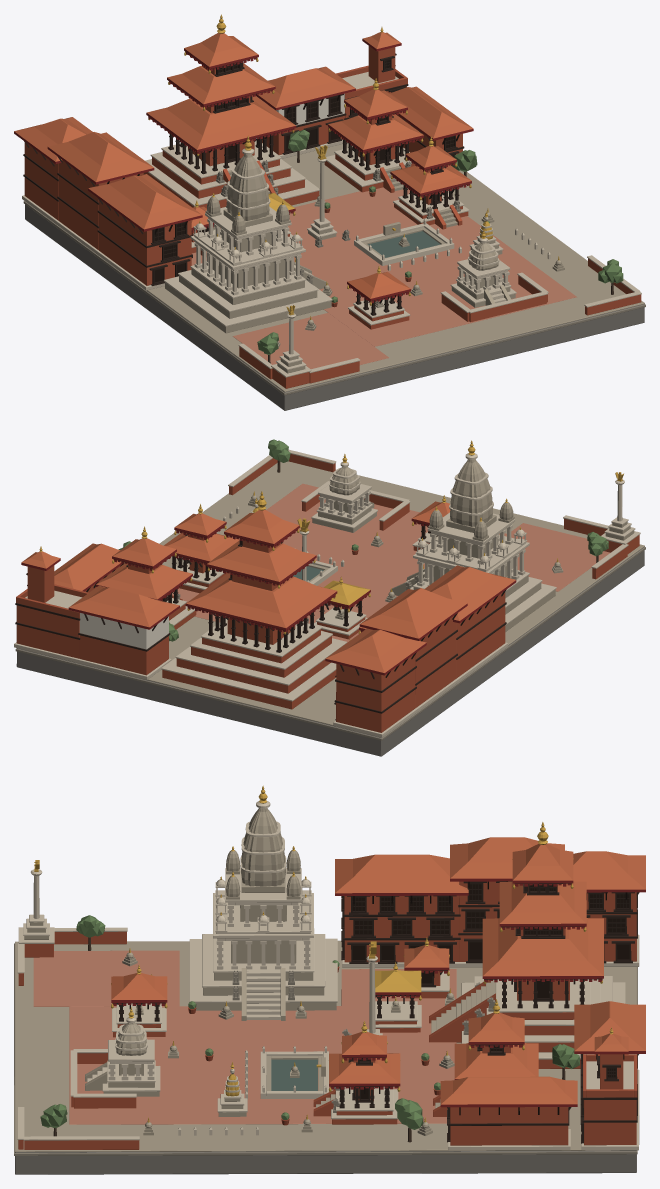
File: durbar.glb
The picture shows the model from 3 angles, top to bottom: view 1: azimuth 30°, elevation 25°; view 2: azimuth 150°, elevation 25°; view 3: azimuth 270°, elevation 25°; orthographic projection. The views are drawn at different scales.
Parts seen in each view (by area): view 1: Courtyard_Brick_Field_1.001, Courtyard_Stone_Paving.001, Diorama_Platform.001, KrishnaMandir_Base.001, MainPagoda_Plinth.001, MainPagoda_Roof_1.001, Courtyard_Brick_Field_2.001, Palace_South_Walls.001, Palace_South_Roof.001, Palace_Central_Roof.001, MainPagoda_Roof_2.001, Palace_Central_Walls.001 (+33 smaller); view 2: Diorama_Platform.001, Courtyard_Stone_Paving.001, MainPagoda_Plinth.001, Courtyard_Brick_Field_1.001, MainPagoda_Roof_1.001, Palace_North_Walls.001, Courtyard_Brick_Field_2.001, Palace_Central_Roof.001, House_White_Roof.001, Palace_North_Roof.001, MainPagoda_Roof_2.001, Palace_South_Roof.001 (+36 smaller); view 3: Courtyard_Brick_Field_1.001, Courtyard_Stone_Paving.001, Diorama_Platform.001, KrishnaMandir_Base.001, Courtyard_Brick_Field_2.001, MainPagoda_Roof_1.001, Palace_South_Roof.001, MainPagoda_Plinth.001, House_Brick_E_Walls.001, House_Brick_E_Roof.001, MainPagoda_Roof_2.001, Palace_South_Walls.001 (+52 smaller).
Boxes of the visible parts, x1,y1,x2,y2 form: Courtyard_Brick_Field_1.001: (220, 187, 576, 346); Courtyard_Stone_Paving.001: (147, 143, 644, 392); Diorama_Platform.001: (25, 204, 644, 410); KrishnaMandir_Base.001: (163, 263, 332, 333); MainPagoda_Plinth.001: (143, 140, 319, 208); MainPagoda_Roof_1.001: (146, 95, 296, 152); Courtyard_Brick_Field_2.001: (233, 313, 388, 368); Palace_South_Walls.001: (99, 200, 191, 285); Palace_South_Roof.001: (88, 174, 202, 231); Palace_Central_Roof.001: (47, 132, 154, 184); MainPagoda_Roof_2.001: (167, 63, 275, 106); Palace_Central_Walls.001: (58, 160, 143, 250); Diorama_Platform.001: (16, 547, 644, 756); Courtyard_Stone_Paving.001: (17, 461, 644, 737); MainPagoda_Plinth.001: (161, 619, 347, 709); Courtyard_Brick_Field_1.001: (172, 483, 506, 642); MainPagoda_Roof_1.001: (185, 572, 337, 630); Palace_North_Walls.001: (336, 654, 415, 732); Courtyard_Brick_Field_2.001: (505, 523, 610, 591); Palace_Central_Roof.001: (359, 588, 467, 640); House_White_Roof.001: (68, 585, 179, 629); Palace_North_Roof.001: (325, 628, 426, 675); MainPagoda_Roof_2.001: (206, 540, 316, 584); Palace_South_Roof.001: (424, 565, 516, 623); Courtyard_Brick_Field_1.001: (69, 1005, 456, 1124); Courtyard_Stone_Paving.001: (15, 940, 636, 1152); Diorama_Platform.001: (15, 1150, 636, 1174); KrishnaMandir_Base.001: (189, 928, 337, 1010); Courtyard_Brick_Field_2.001: (33, 950, 179, 1006); MainPagoda_Roof_1.001: (482, 918, 603, 978); Palace_South_Roof.001: (335, 854, 468, 895); MainPagoda_Plinth.001: (461, 976, 625, 1068); House_Brick_E_Walls.001: (450, 1107, 568, 1145); House_Brick_E_Roof.001: (440, 1076, 577, 1107); MainPagoda_Roof_2.001: (499, 881, 586, 926); Palace_South_Walls.001: (344, 895, 459, 962).
Size of the model in its own units: 33.21 by 16.74 by 40.65.
